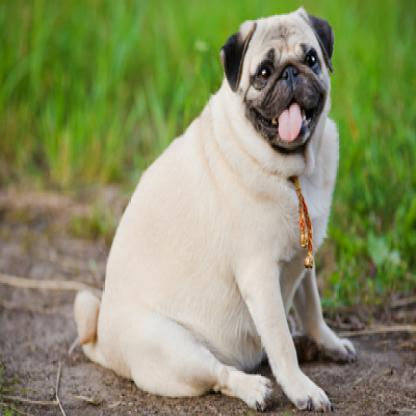dog: (50, 7, 359, 415)
